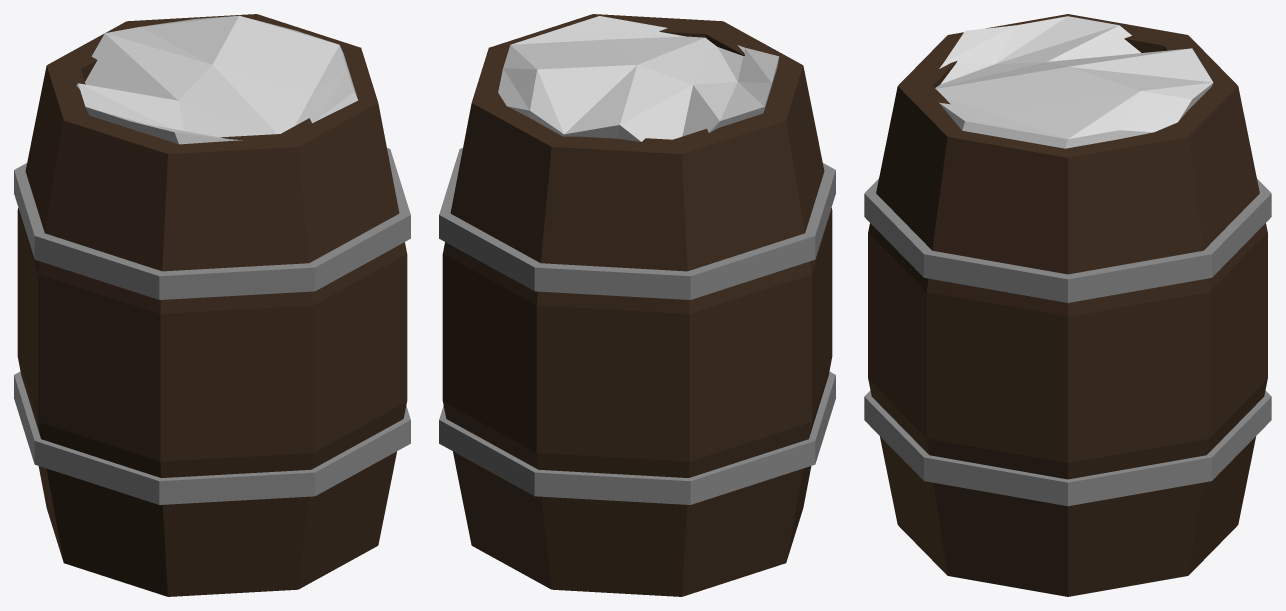
The model's file is barrel_snow_mat.fbx.
3 renders of one model, left to right at view 1: azimuth 30°, elevation 25°; view 2: azimuth 150°, elevation 25°; view 3: azimuth 270°, elevation 25°, orthographic.
Parts seen in each view (by area): view 1: barrel_snow_mat; view 2: barrel_snow_mat; view 3: barrel_snow_mat.
Boxes of the visible parts, x1=… form: barrel_snow_mat: x1=14, y1=14, x2=410, y2=596; barrel_snow_mat: x1=439, y1=14, x2=835, y2=596; barrel_snow_mat: x1=864, y1=14, x2=1271, y2=596.
Bounding box in the file's own units: 45.53 × 57.33 × 45.53.
